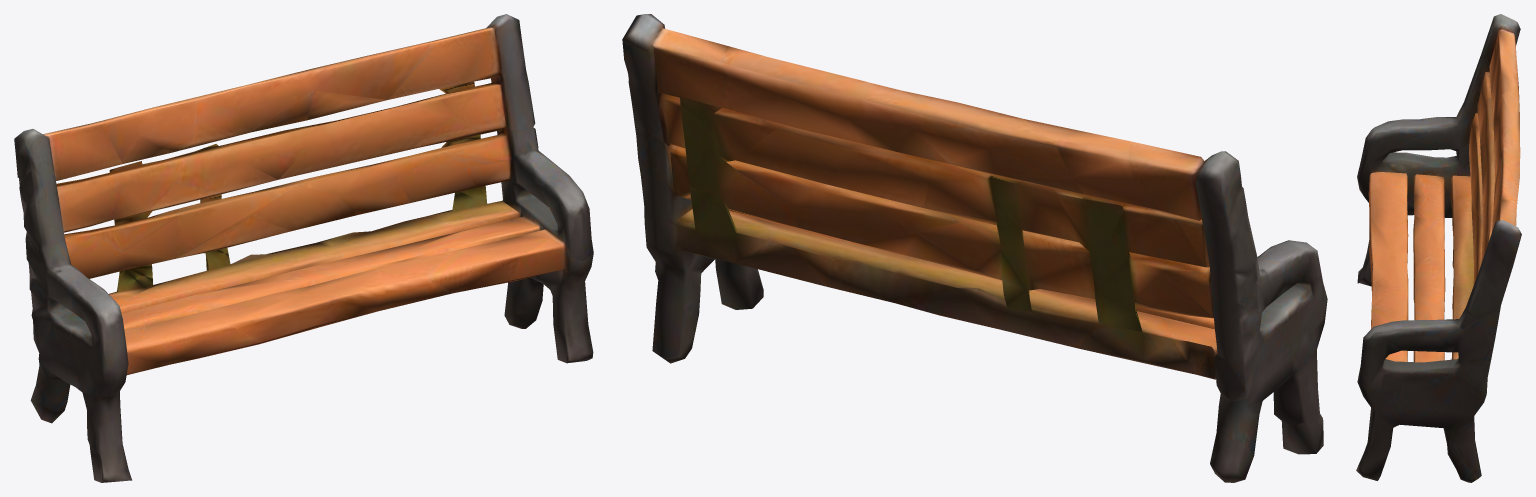
Rendered from bench.glb.
The picture shows the model from 3 angles, left to right: view 1: azimuth 30°, elevation 25°; view 2: azimuth 150°, elevation 25°; view 3: azimuth 270°, elevation 25°; orthographic projection. The views are drawn at different scales.
Visible parts, largest first — view 1: tripo_node_01a21c97-680d-70ea-ac29-b6bd2e83b407; view 2: tripo_node_01a21c97-680d-70ea-ac29-b6bd2e83b407; view 3: tripo_node_01a21c97-680d-70ea-ac29-b6bd2e83b407.
Boxes of the visible parts, box(x1,y1,x2,y2) form: tripo_node_01a21c97-680d-70ea-ac29-b6bd2e83b407: box(14, 14, 593, 482); tripo_node_01a21c97-680d-70ea-ac29-b6bd2e83b407: box(622, 14, 1327, 482); tripo_node_01a21c97-680d-70ea-ac29-b6bd2e83b407: box(1356, 14, 1521, 482).
Size of the model in its own units: 1.8 by 1.05 by 0.5911.
Materials: 1 (1 with a texture image).
